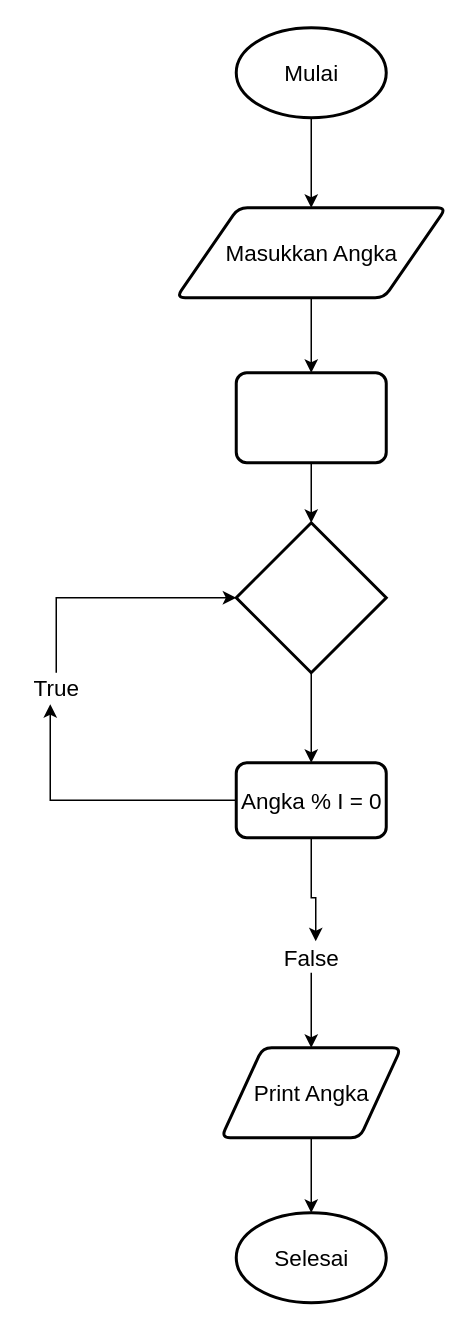
The diagram is 473 pixels wide and 1329 high, and some of its shapes have lost their labels. The centre of each missing label's shape, as x and y in pixels:
I <= Angka: (x=310, y=597)
I = 3: (x=310, y=417)
